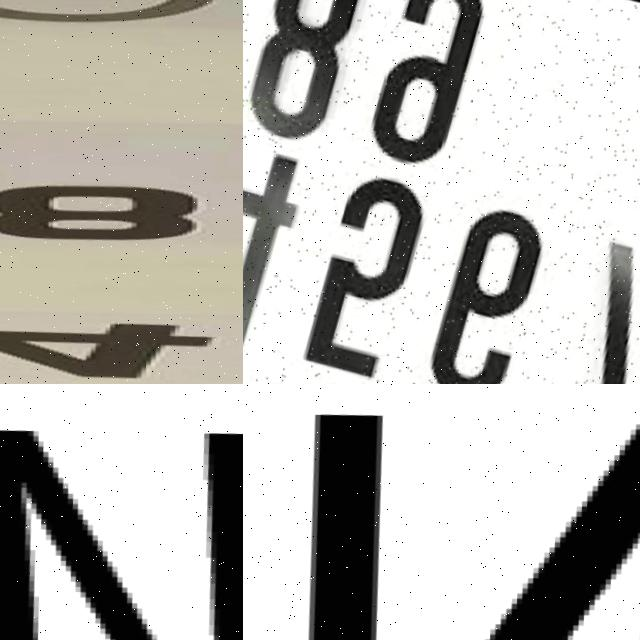0: (0, 0, 243, 43)
4: (0, 291, 243, 384), (243, 130, 326, 366)
5: (288, 159, 448, 384)
6: (412, 187, 570, 384)
7: (530, 220, 640, 384)
8: (243, 0, 383, 155), (0, 161, 219, 259)
9: (350, 0, 500, 177)
N: (272, 385, 640, 640)
W: (0, 390, 243, 640)
